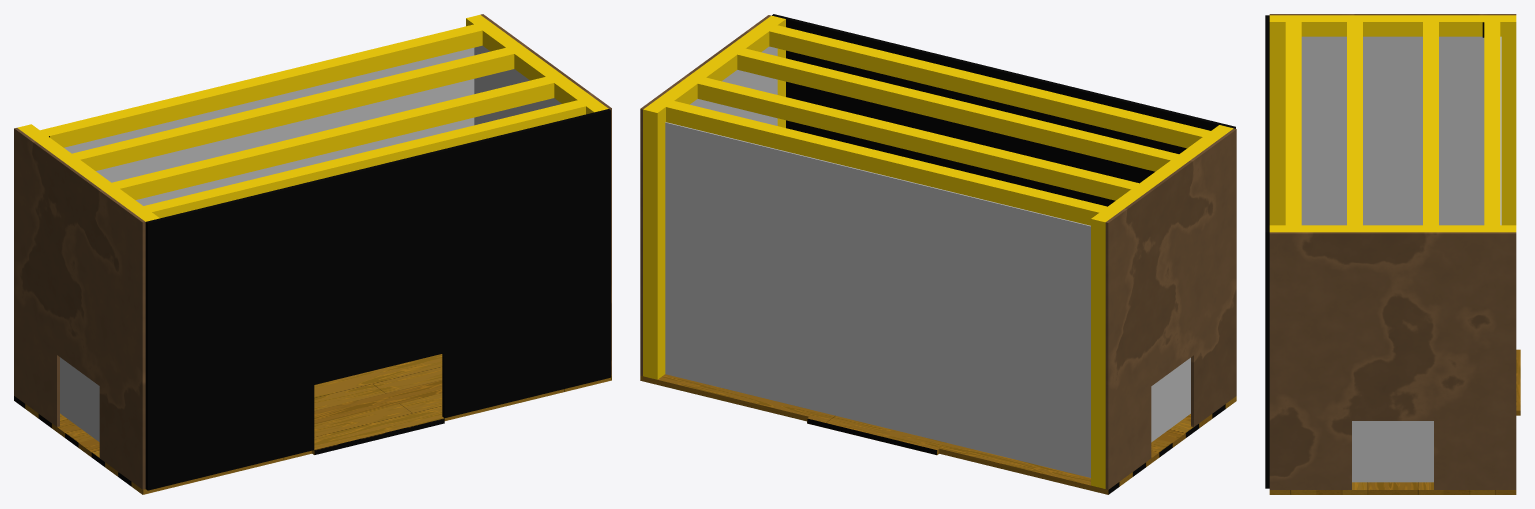
Rendered from sala lateral.fbx.
3 views of the same model, side by side, from view 1: azimuth 30°, elevation 25°; view 2: azimuth 150°, elevation 25°; view 3: azimuth 270°, elevation 25° (orthographic). The views are drawn at different scales.
Visible parts, largest first — view 1: backward wall.002, trabesaño.005, pared.l.001, carton.f, suelo.001, trabesaño.003, carton.l.001, trabesaño.004, carton.r.001, pared.r.001; view 2: carton.f, trabesaño.005, pared.l.001, backward wall.002, suelo.001, columna.005, columna.004, trabesaño.003, carton.l.001, trabesaño.004, carton.r.001, pared.r.001; view 3: pared.r.001, carton.l.001, trabesaño.005, carton.r.001, trabesaño.004, columna.006, columna.004, backward wall.002, suelo.001, trabesaño.003, pared.l.001, carton.f.
Boxes of the visible parts, x1,y1,x2,y2 form: backward wall.002: (145, 109, 610, 490); trabesaño.005: (40, 24, 585, 218); pared.l.001: (14, 128, 145, 489); carton.f: (64, 48, 474, 205); suelo.001: (14, 354, 611, 494); trabesaño.003: (474, 21, 600, 106); carton.l.001: (60, 357, 99, 441); trabesaño.004: (26, 130, 151, 215); carton.r.001: (474, 45, 561, 125); pared.r.001: (480, 14, 611, 375); carton.f: (665, 122, 1090, 477); trabesaño.005: (666, 25, 1210, 225); pared.l.001: (1105, 128, 1236, 489); backward wall.002: (772, 14, 1235, 206); suelo.001: (640, 374, 1236, 494); columna.005: (643, 103, 665, 379); columna.004: (1091, 213, 1113, 488); trabesaño.003: (652, 21, 777, 106); carton.l.001: (1151, 357, 1190, 442); trabesaño.004: (1099, 131, 1224, 216); carton.r.001: (690, 46, 777, 125); pared.r.001: (640, 15, 770, 375); pared.r.001: (1269, 232, 1516, 489); carton.l.001: (1301, 36, 1484, 225); trabesaño.005: (1285, 22, 1500, 225); carton.r.001: (1352, 421, 1433, 482); trabesaño.004: (1285, 15, 1500, 36); columna.006: (1269, 15, 1285, 225); columna.004: (1500, 15, 1516, 225); backward wall.002: (1265, 15, 1269, 488); suelo.001: (1269, 349, 1520, 494); trabesaño.003: (1285, 225, 1500, 232); pared.l.001: (1269, 14, 1516, 15); carton.f: (1500, 36, 1501, 225).
Size of the model in its own units: 3240 by 1800 by 1591.
